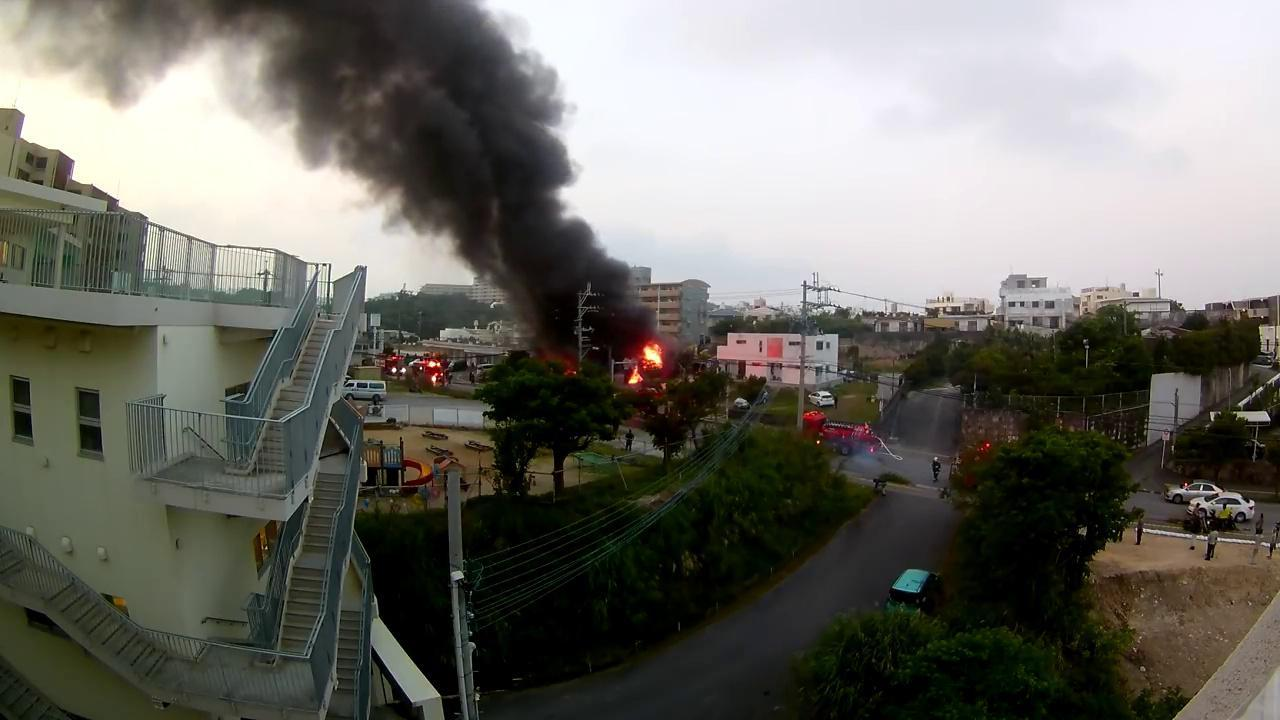Fire: (640, 343, 670, 366), (629, 368, 646, 383)
